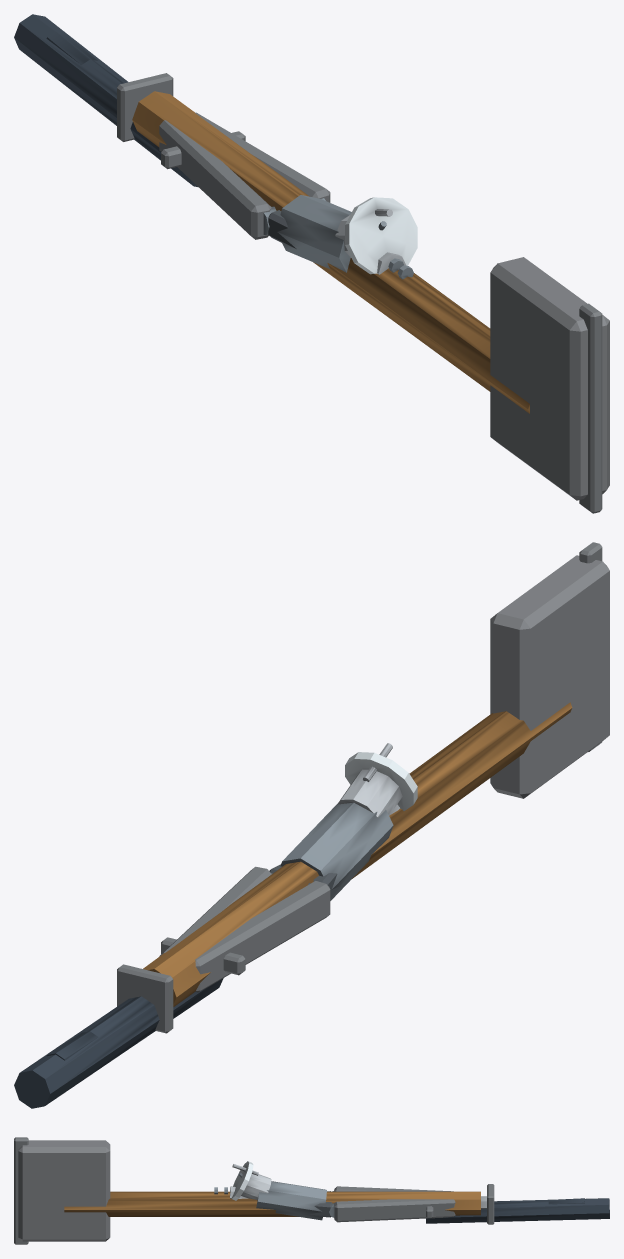
Rendered from instruments.glb.
The picture shows the model from 3 angles, top to bottom: view 1: azimuth 30°, elevation 25°; view 2: azimuth 150°, elevation 25°; view 3: azimuth 270°, elevation 25°; orthographic projection. The views are drawn at different scales.
Visible parts, largest first — view 1: AxeHead, AxeHandle, SuctionHose, ForcepsArmL, MirrorHead, HandpieceBody, AxeEdge, SyringeThumb, ForcepsArmR, HandpieceHose; view 2: AxeHead, AxeHandle, SuctionHose, HandpieceBody, ForcepsArmL, SyringeThumb, HandpieceHead, MirrorHead, ForcepsArmR; view 3: AxeHead, AxeHandle, SuctionHose, ForcepsArmR, HandpieceBody, AxeEdge, HandpieceHead, MirrorHead, ForcepsArmL, SyringeThumb, ForcepsBeakR, HandpieceHose.
Part boxes in pixels (x1,y1,x2,y2): AxeHead: (490, 257, 609, 500); AxeHandle: (132, 91, 529, 413); SuctionHose: (14, 14, 198, 187); ForcepsArmL: (159, 120, 271, 239); MirrorHead: (345, 197, 417, 274); HandpieceBody: (277, 195, 351, 272); AxeEdge: (579, 303, 602, 513); SyringeThumb: (117, 73, 173, 141); ForcepsArmR: (195, 112, 330, 202); HandpieceHose: (46, 31, 97, 64); AxeHead: (490, 555, 609, 798); AxeHandle: (143, 702, 572, 1006); SuctionHose: (14, 978, 223, 1108); HandpieceBody: (280, 802, 393, 900); ForcepsArmL: (195, 881, 330, 992); SyringeThumb: (117, 964, 173, 1033); HandpieceHead: (337, 769, 402, 817); MirrorHead: (345, 752, 417, 810); ForcepsArmR: (159, 866, 271, 956); AxeHead: (18, 1140, 110, 1241); AxeHandle: (64, 1191, 480, 1216); SuctionHose: (426, 1198, 609, 1223); ForcepsArmR: (334, 1199, 455, 1222); HandpieceBody: (256, 1181, 326, 1220); AxeEdge: (14, 1137, 28, 1244); HandpieceHead: (241, 1174, 271, 1199); MirrorHead: (231, 1161, 253, 1200); ForcepsArmL: (334, 1186, 453, 1191); SyringeThumb: (487, 1184, 494, 1224); ForcepsBeakR: (308, 1202, 332, 1217); HandpieceHose: (548, 1198, 584, 1204).
Bounding box in the file's own units: 0.04 × 0.095 × 0.4862.
